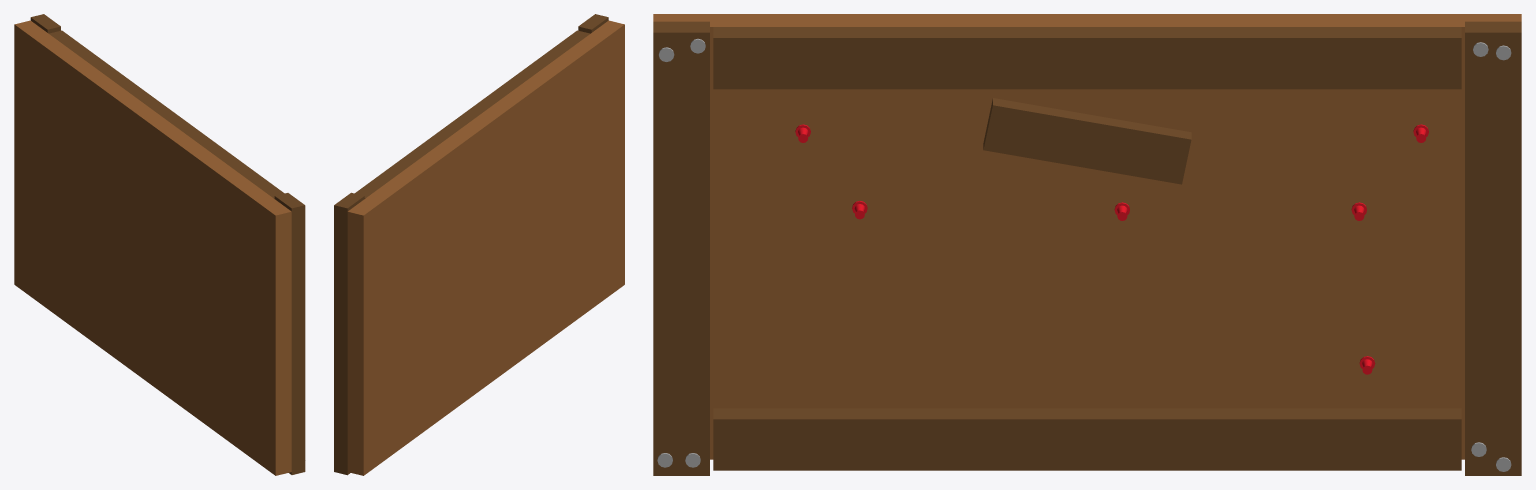
Rendered from JobBoard.fbx.
The picture shows the model from 3 angles, left to right: view 1: azimuth 30°, elevation 25°; view 2: azimuth 150°, elevation 25°; view 3: azimuth 270°, elevation 25°; orthographic projection. The views are drawn at different scales.
Visible parts, largest first — view 1: SM_JobBoard; view 2: SM_JobBoard; view 3: SM_JobBoard.
Boxes of the visible parts, box(x1,y1,x2,y2) form: SM_JobBoard: box(14, 14, 305, 475); SM_JobBoard: box(334, 14, 624, 475); SM_JobBoard: box(653, 14, 1521, 475).
Bounding box in the file's own units: 38.53 × 183 × 324.
